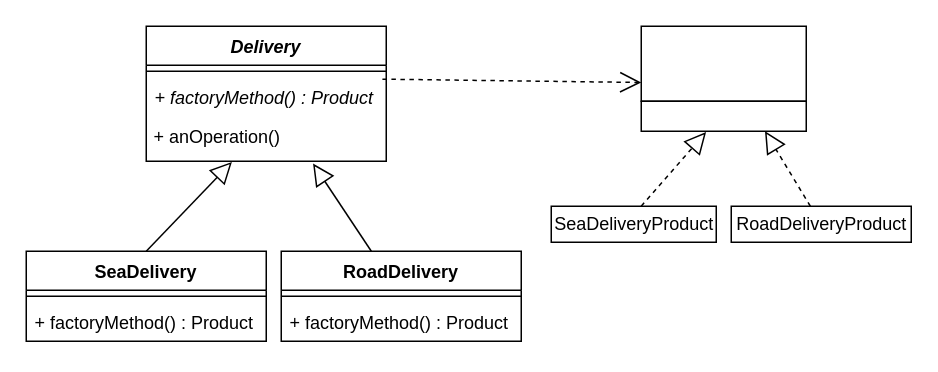
This 938x372 diagram has some shape labels left out. The shapes that lost their labels are listed below. From the top down, each one's centre as x and y in pixels, then its label:
At (x=723, y=63): "«interface» Product".
At (x=723, y=115): "+ operation()".
